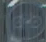bike lane: (7, 0, 43, 41)
